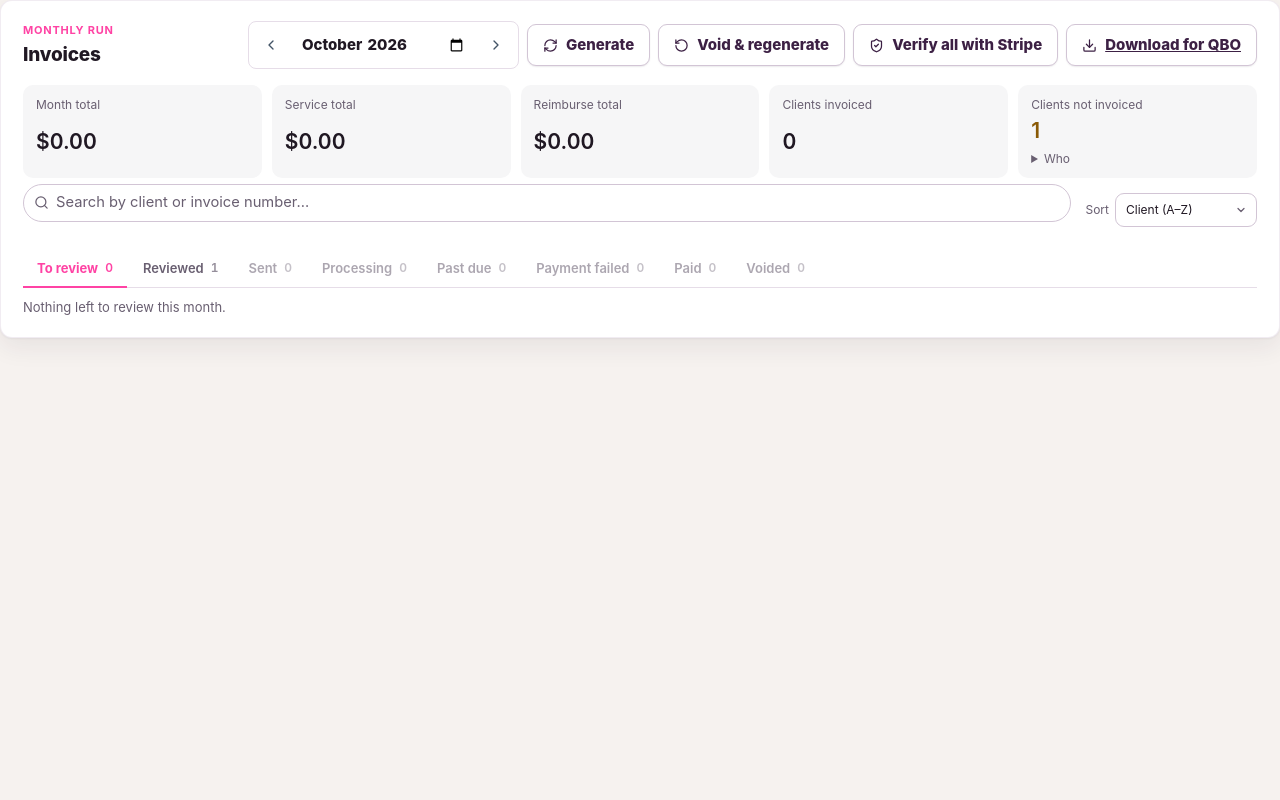
it: the month run lists the addressed company's addresses for a billing master › says there is nobody to send to when the master names no company
Click the tab "Reviewed 1".
click(181, 269)  # box [129,250,232,288]
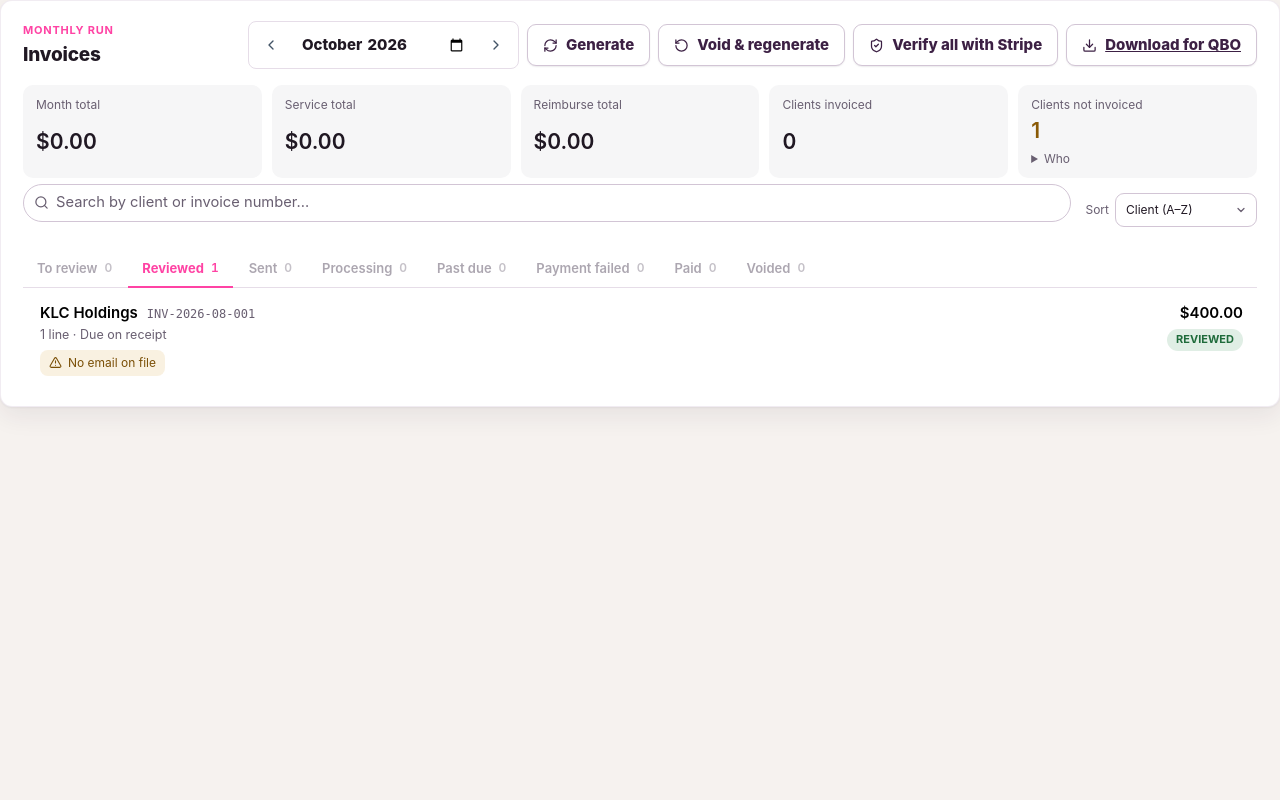
Click the text "INV-2026-08-001".
click(201, 315)  # box [147,306,255,324]
(page scrolled)
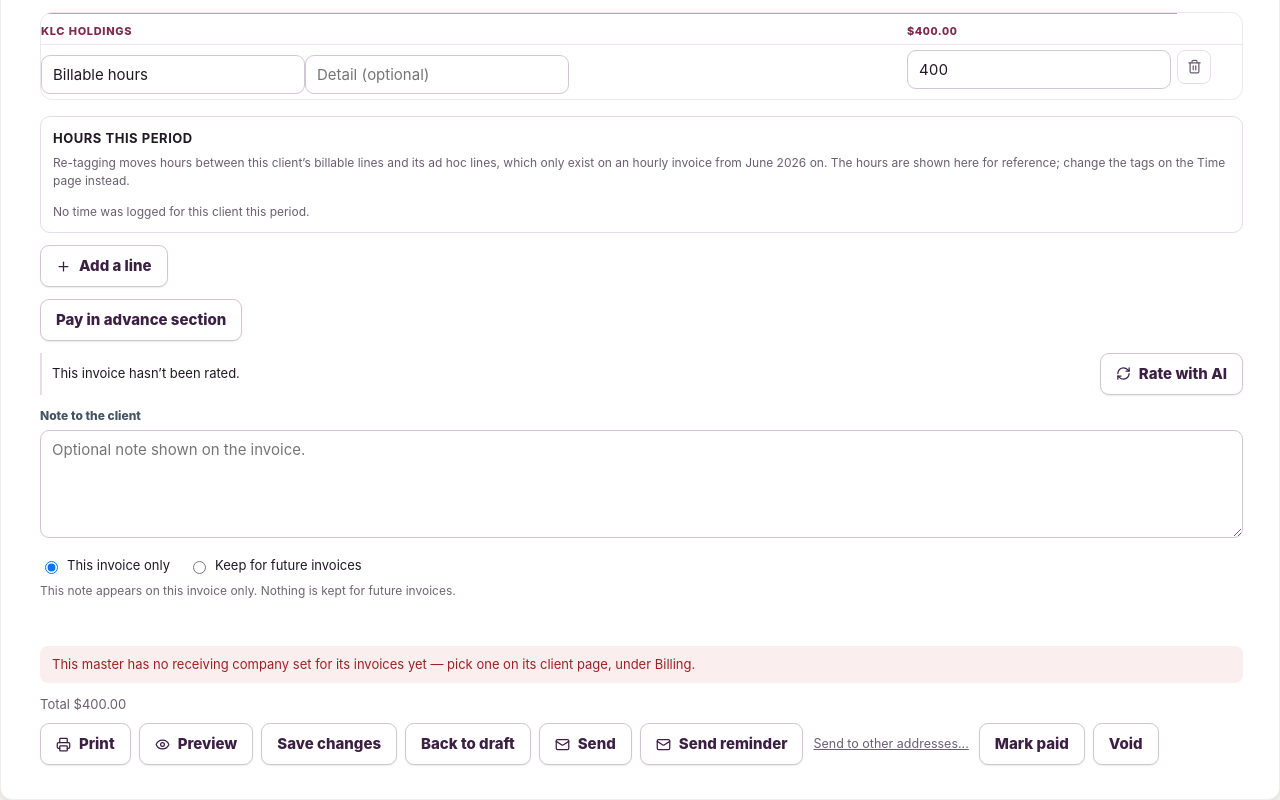
Check: the button "Send" is disabled, box [539,724,632,765]
